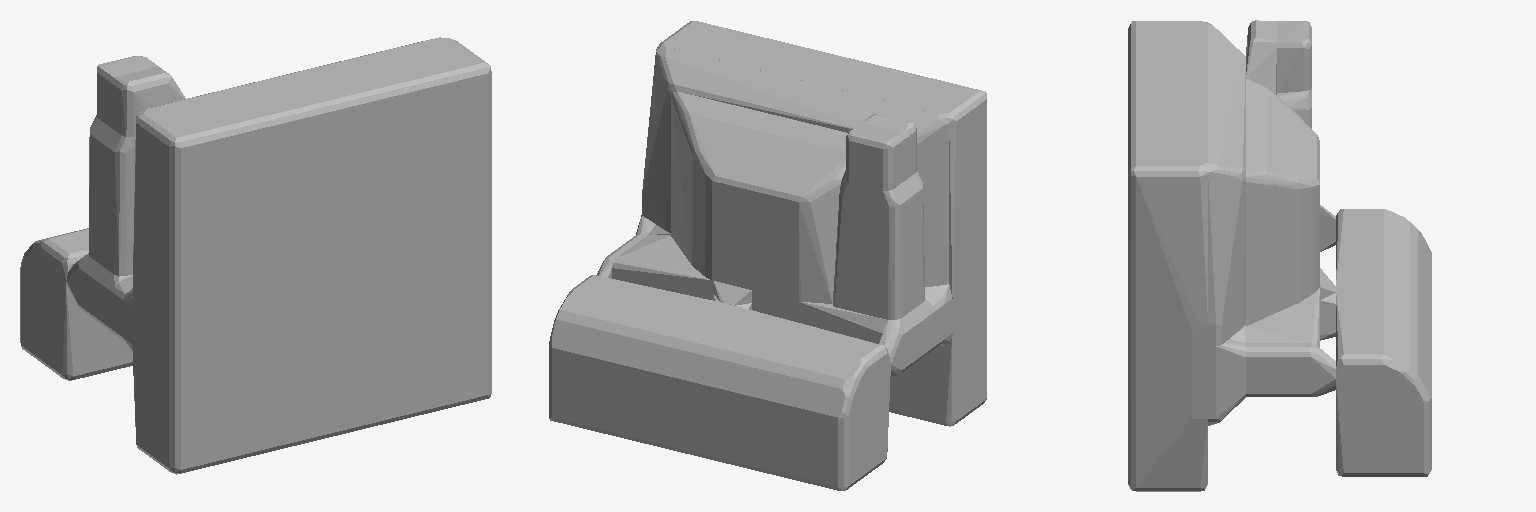
URDF robot description (root):
<?xml version="1.0"?>
<robot name="root">
  <link name="base_link">
    <visual>
      <origin xyz="0 0 0" rpy="0 0 0" />
      <geometry>
        <mesh filename="../meshes/unidex_core_camera-9d79c246317bbbe87f72d6c7f2024896_012.obj" scale="1.0000E+00 1.0000E+00 1.0000E+00" />
      </geometry>
      <material name="">
        <color rgba="7.50E-01 7.50E-01 7.50E-01 1" />
      </material>
    </visual>
    <collision>
      <origin xyz="0 0 0" rpy="0 0 0" />
      <geometry>
        <mesh filename="../meshes/unidex_core_camera-9d79c246317bbbe87f72d6c7f2024896_012.obj" scale="1.0000E+00 1.0000E+00 1.0000E+00" />
      </geometry>
    </collision>
  </link>
</robot>

--- What the picture shows (computed from the rendered views, not written in the file) ---
Views: 3 orthographic renders of the robot side by side, from view 1: azimuth 30°, elevation 25°; view 2: azimuth 150°, elevation 25°; view 3: azimuth 270°, elevation 25°.
Robot: root — 1 links, 0 joints (none); root link base_link; default pose: all joints at 0.
Visible links, largest first — view 1: base_link; view 2: base_link; view 3: base_link.
Boxes of the visible links, x1,y1,x2,y2 form: base_link: (20, 37, 491, 474); base_link: (549, 21, 986, 490); base_link: (1128, 20, 1431, 491).
Size in the robot's own frame: 0.1453 by 0.12 by 0.1453 metres.
Meshes: 1 distinct files referenced, 1 mesh visuals loaded (1 OBJ).
